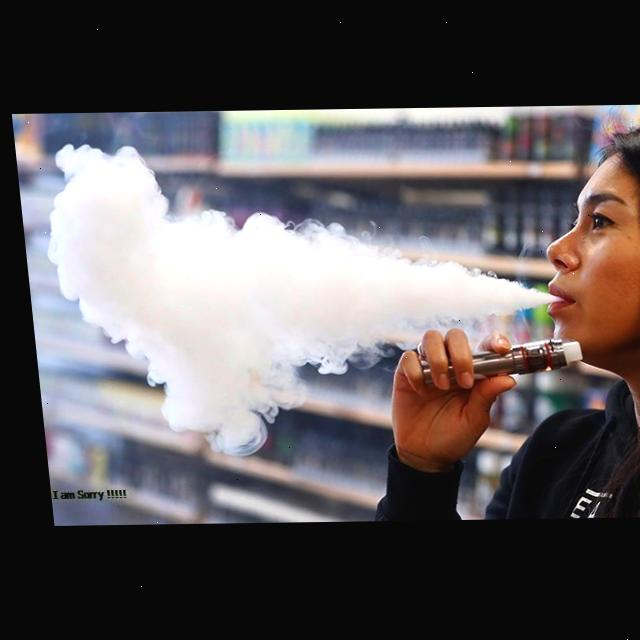vape: (410, 339, 579, 389)
